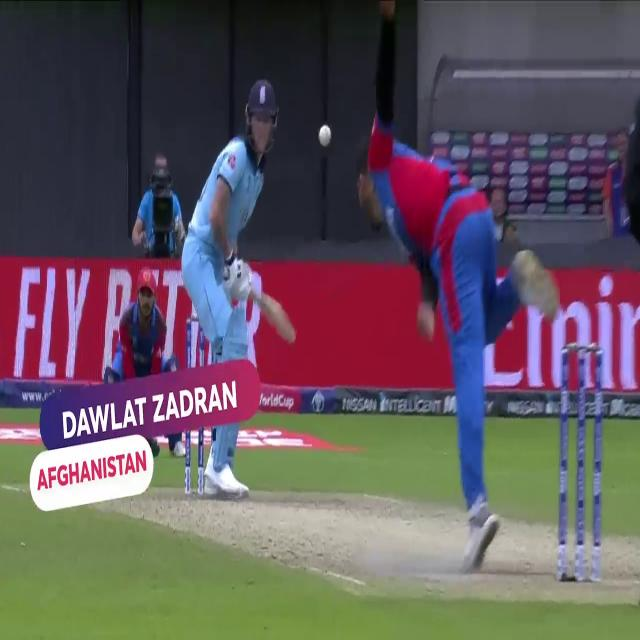ball: (315, 116, 335, 154)
